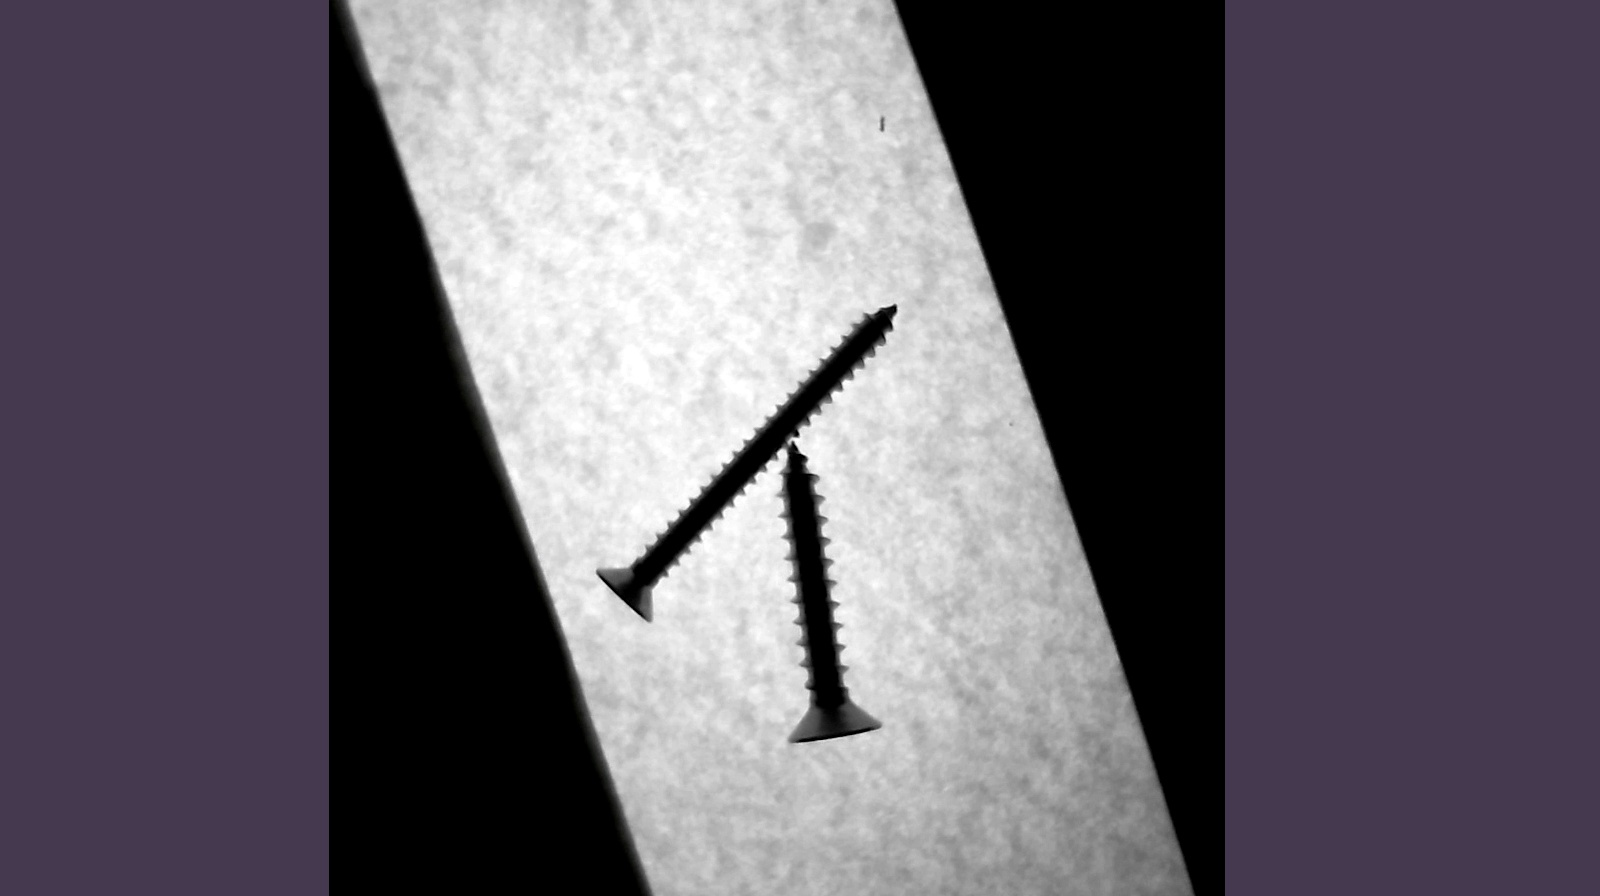S001: (779, 444, 889, 742)
S002: (589, 297, 899, 626)
